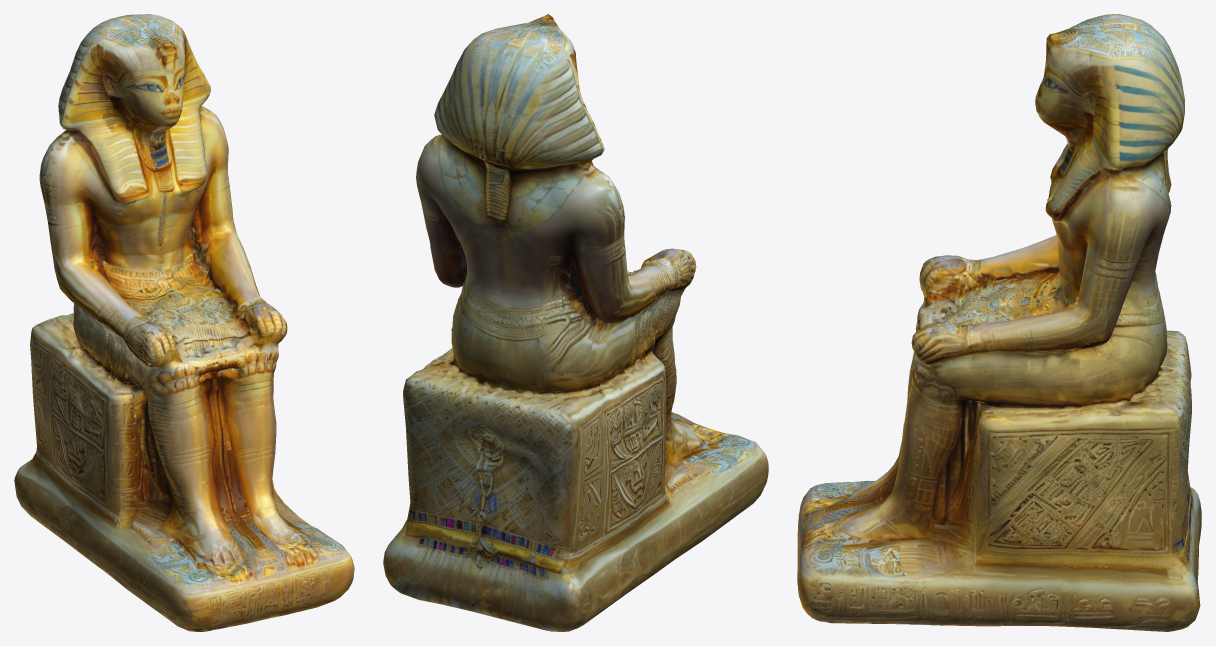
The model's file is Egyptian_pharaoh_in_t_0729163915_refine.fbx.
The picture shows the model from 3 angles, left to right: view 1: azimuth 30°, elevation 25°; view 2: azimuth 150°, elevation 25°; view 3: azimuth 270°, elevation 25°; orthographic projection. The views are drawn at different scales.
Parts seen in each view (by area): view 1: Mesh_0; view 2: Mesh_0; view 3: Mesh_0.
Part boxes in pixels (x1,y1,x2,y2): Mesh_0: (14, 14, 354, 631); Mesh_0: (383, 14, 768, 631); Mesh_0: (797, 14, 1201, 631).
Size of the model in its own units: 45.36 by 120 by 76.28.
1 material, 1 textured.
